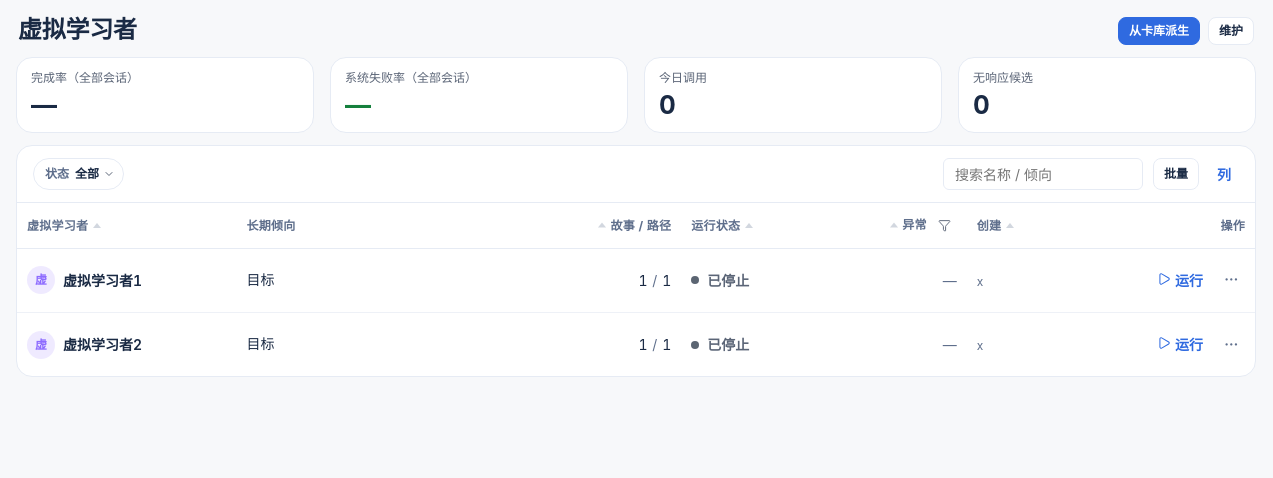
Scenario: VirtualLearners 批量管理与生命周期视图 › 选择框列默认隐藏：首访无全选、无行内勾选，卡头「批量」按钮可打开
Expected: the text "已选" is not shown
Note: 卡头「批量」按钮直接进入多选态
Click the button "批量": click(1176, 174) [1153, 158, 1199, 190]
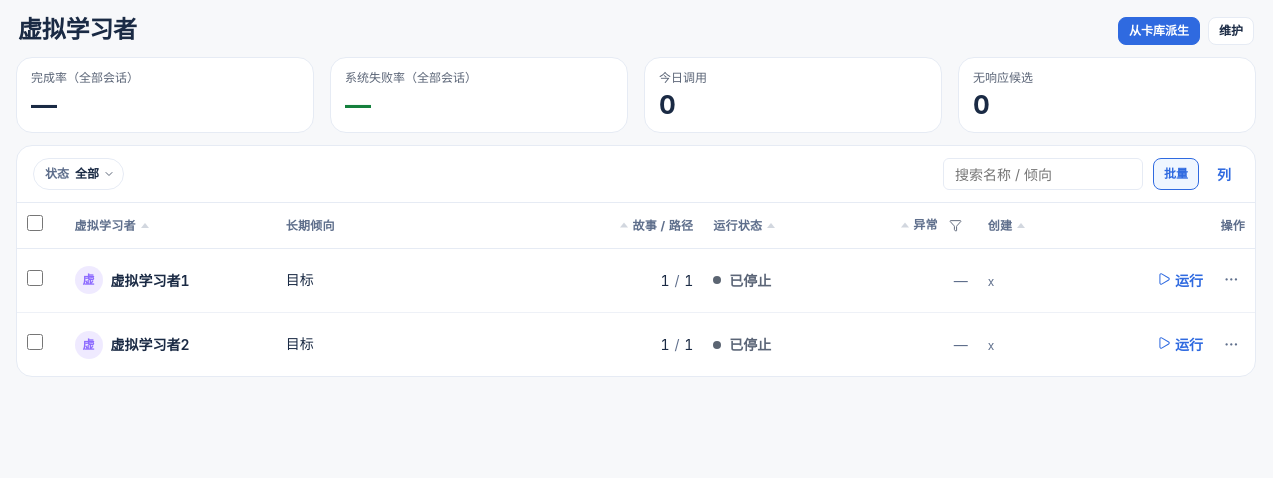
Click the checkbox named "选择 虚拟学习者1": click(35, 278) [27, 270, 43, 286]
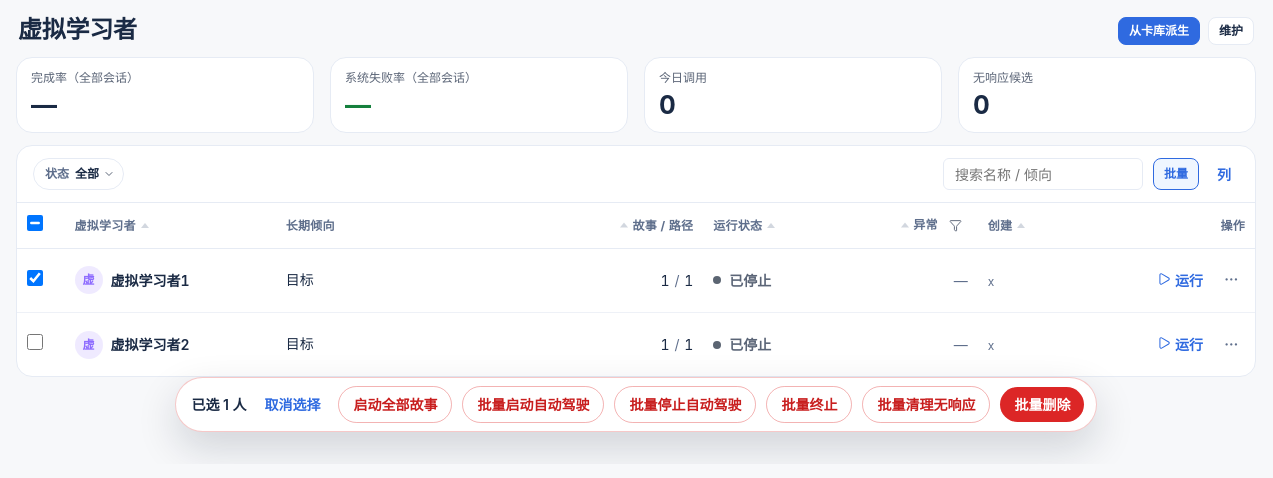
Result: the text "已选 1 人" is shown at [192, 393, 246, 416]
Note: 再点一次退出多选态并清掉选中
Click the button "批量": click(1176, 174) [1153, 158, 1199, 190]
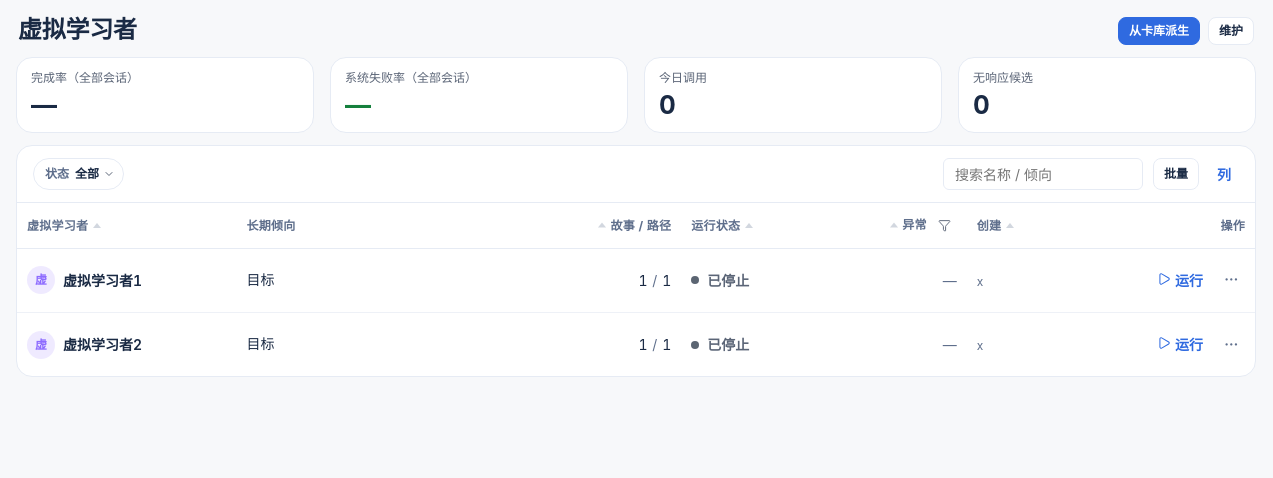
Result: no checkboxes are shown
Result: the text "已选" is gone
